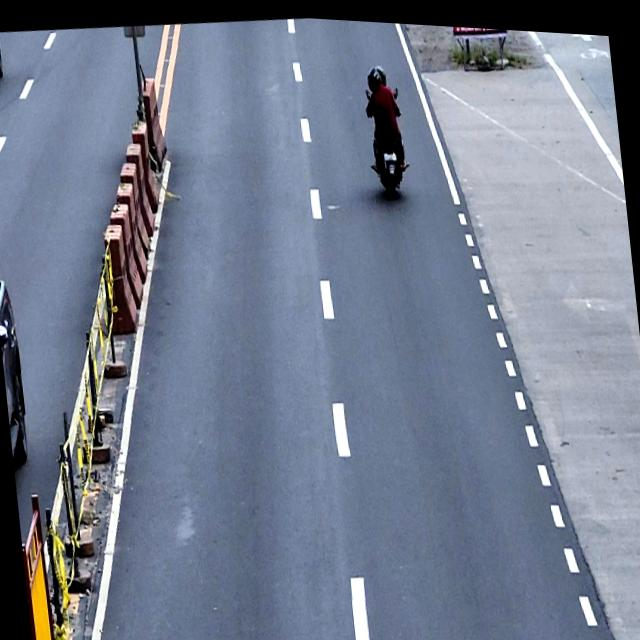Car: (0, 277, 31, 464)
Motorcycle: (362, 79, 412, 197)
